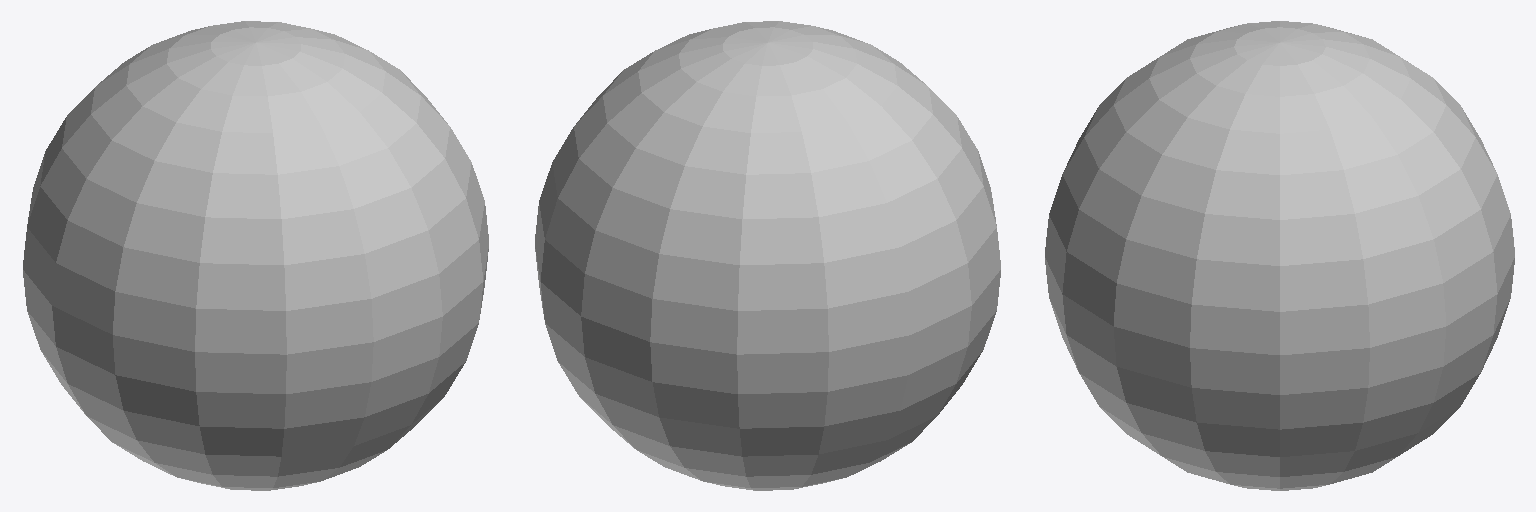
The model's file is orb_complete.obj.
3 views of the same model, side by side, from view 1: azimuth 30°, elevation 25°; view 2: azimuth 150°, elevation 25°; view 3: azimuth 270°, elevation 25° (orthographic).
Visible parts, largest first — view 1: pSphere2; view 2: pSphere2; view 3: pSphere2.
Boxes of the visible parts, box(x1,y1,x2,y2) form: pSphere2: box(23, 21, 488, 490); pSphere2: box(535, 21, 1000, 490); pSphere2: box(1045, 21, 1514, 490).
Size of the model in its own units: 0.4045 by 0.4045 by 0.4045.